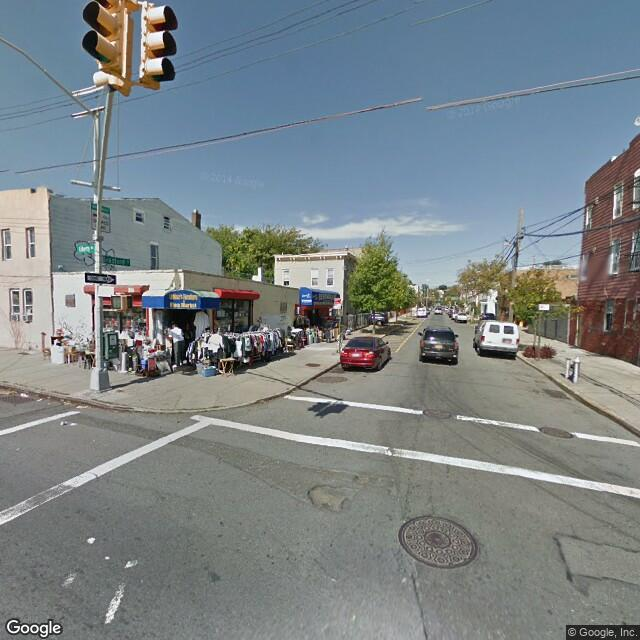litter: (16, 387, 49, 403), (57, 416, 78, 432)
